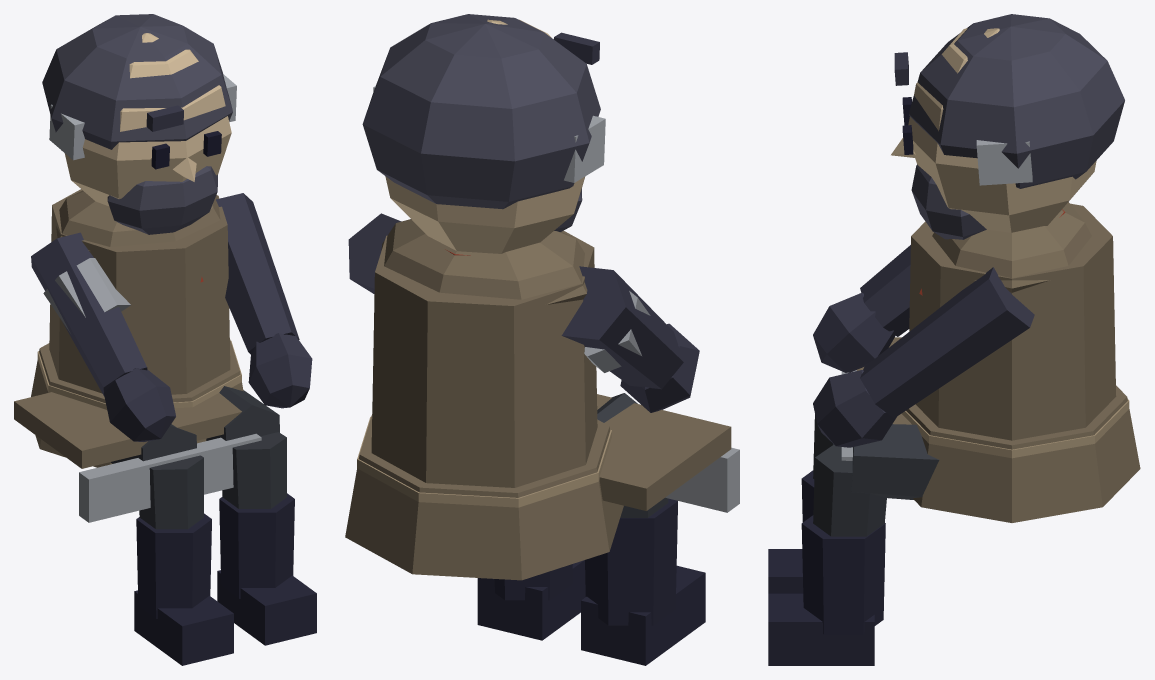
The model's file is ottie_home.glb.
3 renders of one model, left to right at view 1: azimuth 30°, elevation 25°; view 2: azimuth 150°, elevation 25°; view 3: azimuth 270°, elevation 25°, orthographic. The views are drawn at different scales.
Visible parts, largest first — view 1: Head, LegL, Torso, LegR, ArmR, ArmL; view 2: Torso, Head, LegL, LegR, ArmR, ArmL; view 3: Torso, Head, LegL, ArmL, ArmR, LegR.
Part boxes in pixels (x1,y1,x2,y2): Head: (42,14,236,234); LegL: (14,386,316,645); Torso: (31,189,243,467); LegR: (110,424,233,665); ArmR: (31,232,175,441); ArmL: (216,193,312,408); Torso: (345,219,623,580); Head: (362,14,605,253); LegL: (477,394,739,640); LegR: (581,393,705,665); ArmR: (561,266,699,412); ArmL: (348,213,401,294); Torso: (901,202,1140,522); Head: (891,14,1124,239); LegL: (768,337,939,665); ArmL: (813,267,1034,447); ArmR: (813,245,910,372); LegR: (768,414,833,593).
Size of the model in its own units: 0.6916 by 1.5 by 0.84.
